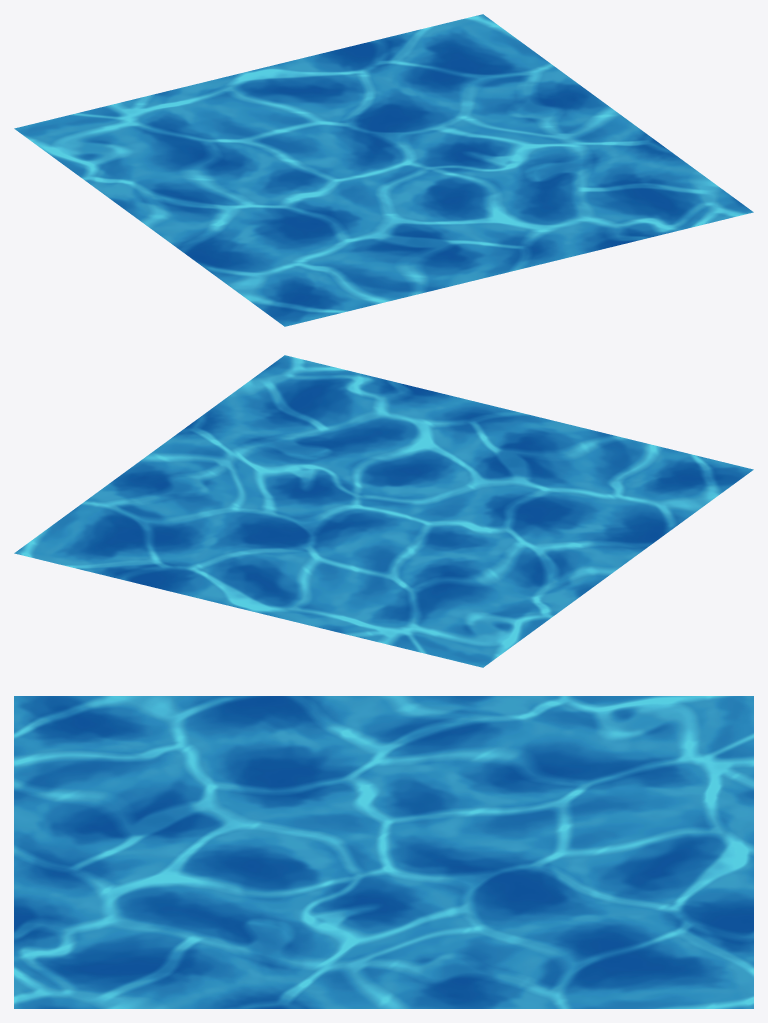
File: water.obj
The picture shows the model from 3 angles, top to bottom: view 1: azimuth 30°, elevation 25°; view 2: azimuth 150°, elevation 25°; view 3: azimuth 270°, elevation 25°; orthographic projection. The views are drawn at different scales.
Visible parts, largest first — view 1: Plane; view 2: Plane; view 3: Plane.
Boxes of the visible parts, x1,y1,x2,y2 form: Plane: (14,14,753,326); Plane: (14,355,753,667); Plane: (14,696,753,1008).
Size of the model in its own units: 2 by 0 by 2.
1 material, 1 textured.
